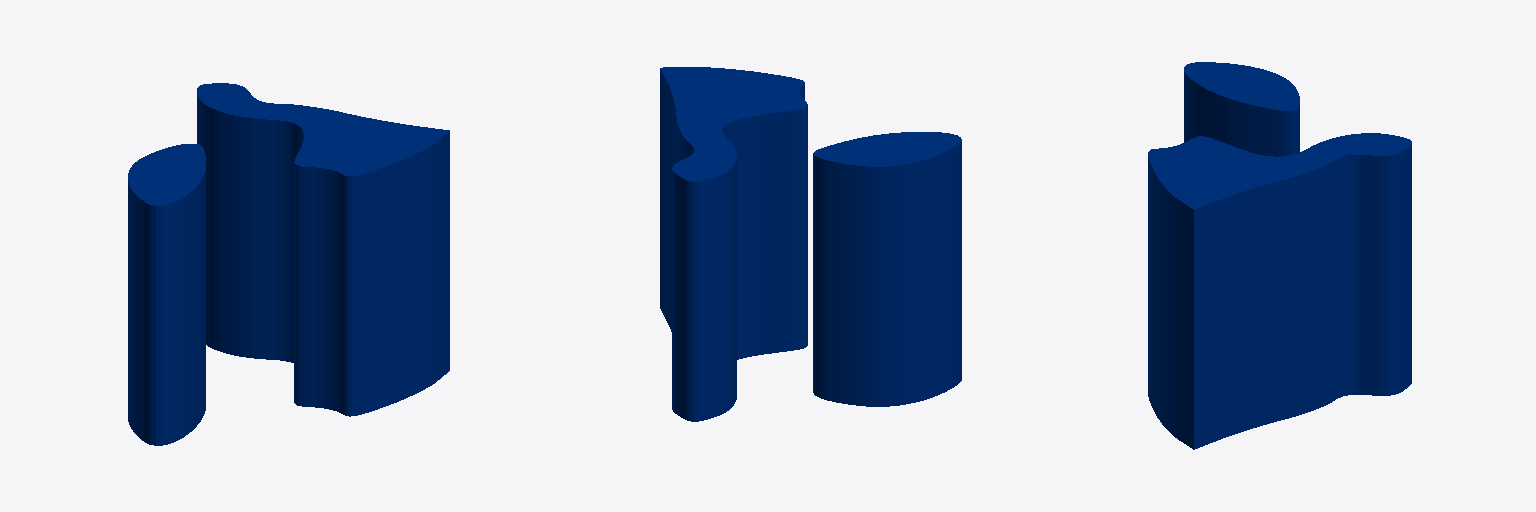
Rendered from Europe_01.obj.
3 views of the same model, side by side, from view 1: azimuth 30°, elevation 25°; view 2: azimuth 150°, elevation 25°; view 3: azimuth 270°, elevation 25° (orthographic).
Parts seen in each view (by area): view 1: Europe_01_path4230; view 2: Europe_01_path4230; view 3: Europe_01_path4230.
Boxes of the visible parts, <box> form: Europe_01_path4230: <box>128,83,449,445</box>; Europe_01_path4230: <box>660,67,961,421</box>; Europe_01_path4230: <box>1148,62,1411,449</box>.
Size of the model in its own units: 0.1319 by 0.1 by 0.0996.